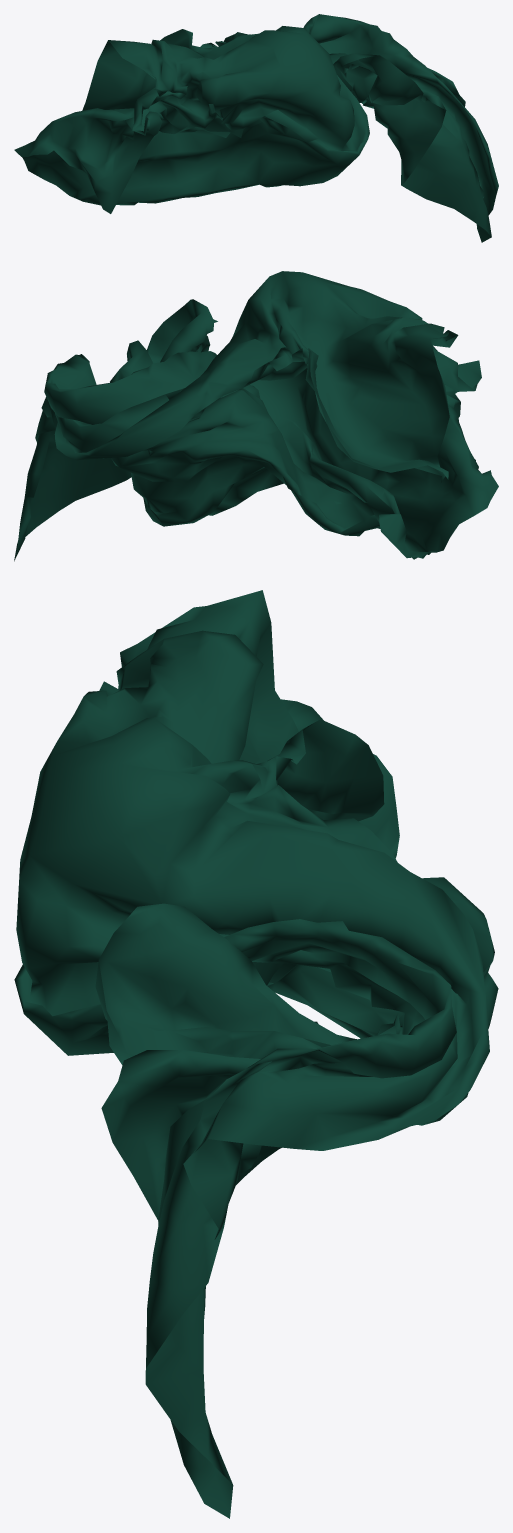
File: linea lunga_V8.glb
3 renders of one model, top to bottom at view 1: azimuth 30°, elevation 25°; view 2: azimuth 150°, elevation 25°; view 3: azimuth 270°, elevation 25°, orthographic. The views are drawn at different scales.
Parts seen in each view (by area): view 1: Plane; view 2: Plane; view 3: Plane.
Boxes of the visible parts, <box> form: Plane: <box>14,14,498,242</box>; Plane: <box>14,271,498,561</box>; Plane: <box>14,590,498,1518</box>.
Bounding box in the file's own units: 9.26 × 5.79 × 4.44.
